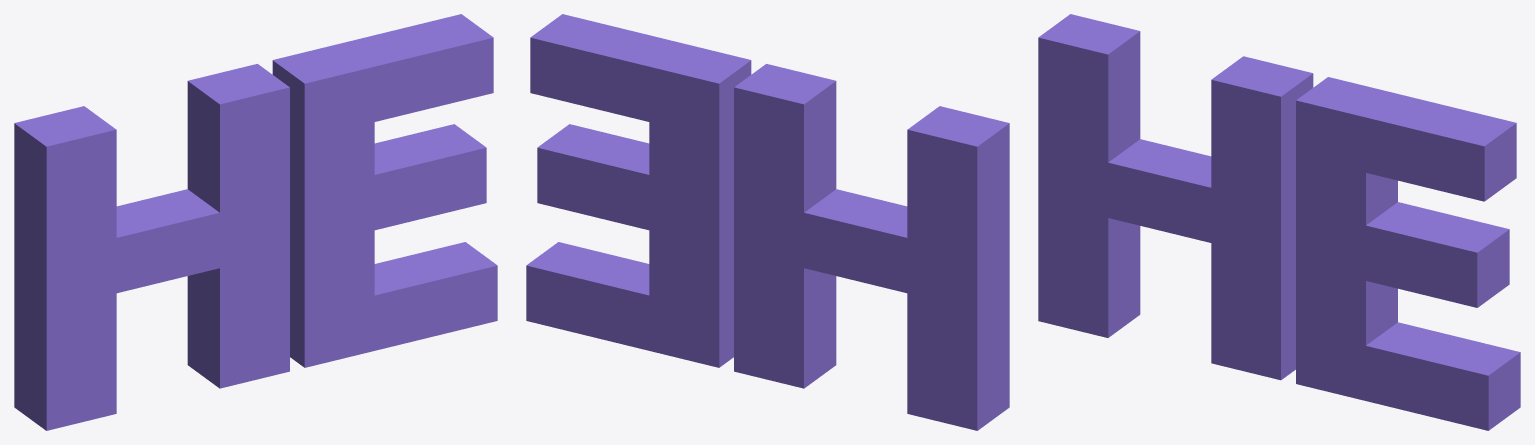
File: suku_besar_he.glb
3 views of the same model, side by side, from view 1: azimuth 30°, elevation 25°; view 2: azimuth 150°, elevation 25°; view 3: azimuth 330°, elevation 25° (orthographic).
Visible parts, largest first — view 1: geometry_0; view 2: geometry_0; view 3: geometry_0.
Part boxes in pixels (left/top/right/bottom): geometry_0: left=14, top=14, right=497, bottom=430; geometry_0: left=526, top=14, right=1009, bottom=430; geometry_0: left=1038, top=14, right=1520, bottom=430.
Size of the model in its own units: 12.11 by 7.29 by 1.5.
